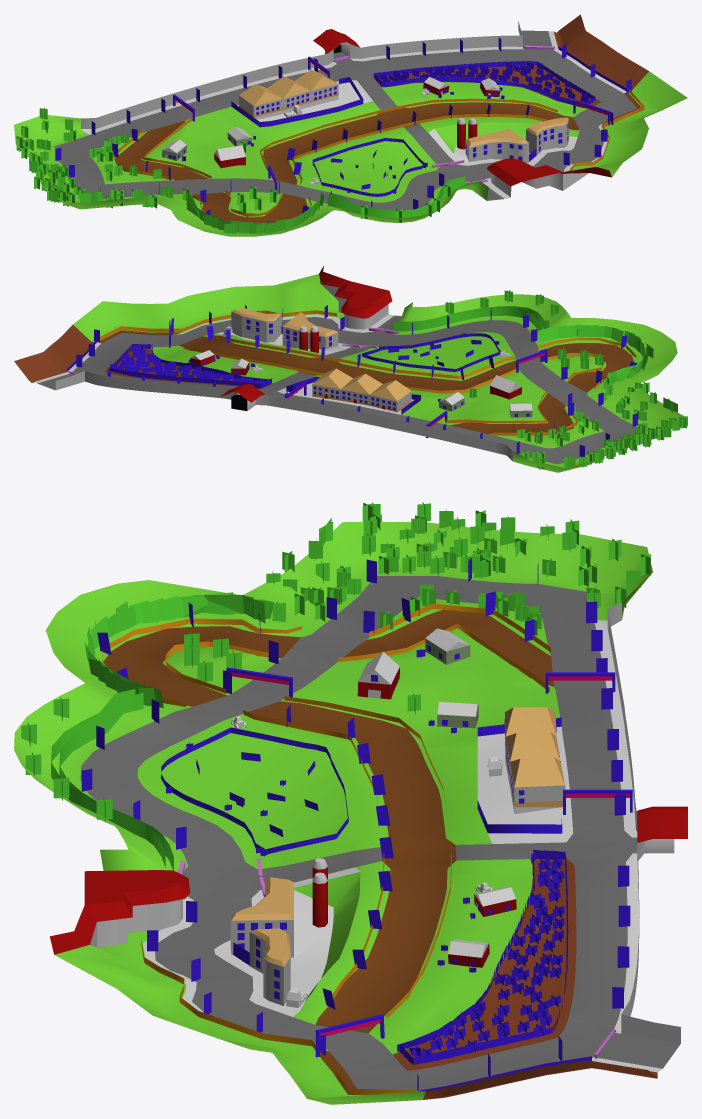
The model's file is track.dae.
3 views of the same model, one above another, from view 1: azimuth 30°, elevation 25°; view 2: azimuth 150°, elevation 25°; view 3: azimuth 270°, elevation 25° (orthographic). The views are drawn at different scales.
Parts seen in each view (by area): view 1: MAIN; view 2: MAIN; view 3: MAIN.
Part boxes in pixels (<box>): MAIN: <box>14,14,687,236</box>; MAIN: <box>14,266,687,472</box>; MAIN: <box>14,502,687,1104</box>.
Size of what is drawn, in the model's own units: 146 by 79.73 by 14.36.
